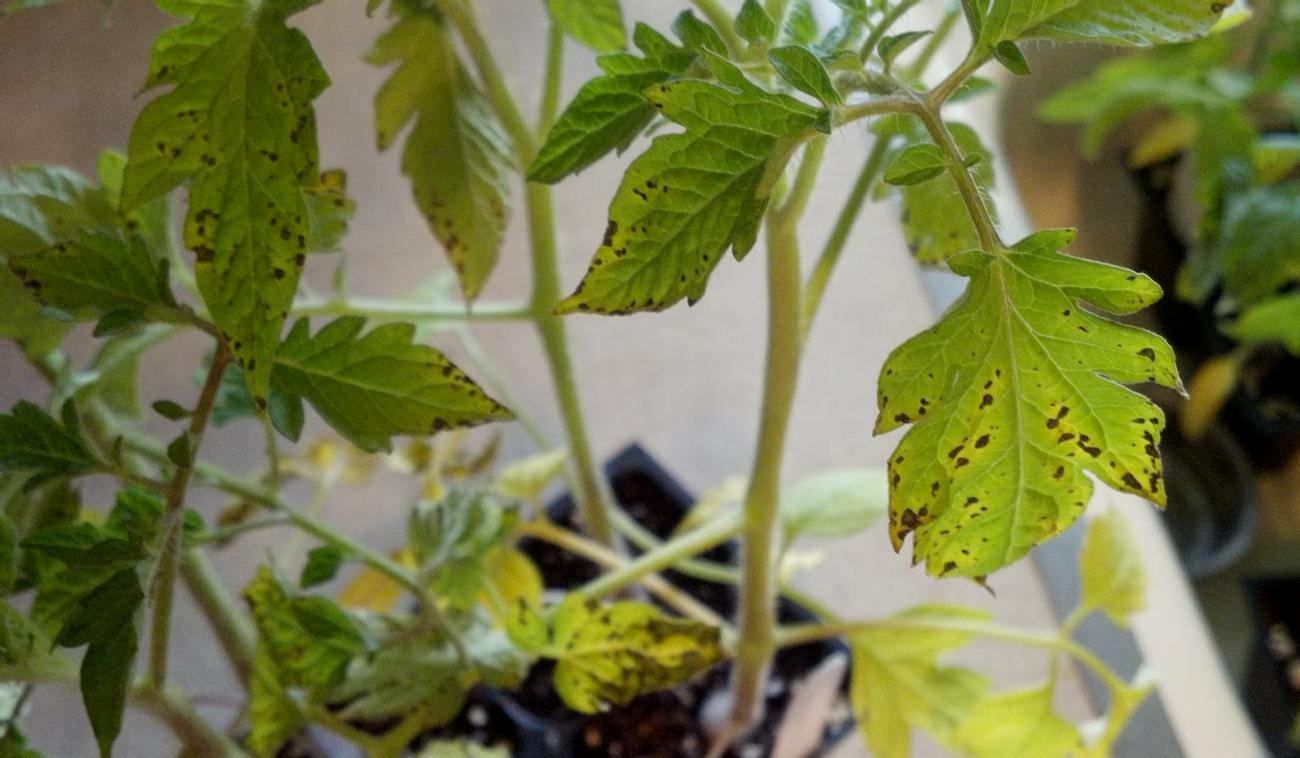Tomato Septoria leaf spot: (861, 253, 1183, 631), (108, 0, 344, 435), (528, 62, 847, 323), (223, 312, 530, 482), (530, 578, 740, 732)
